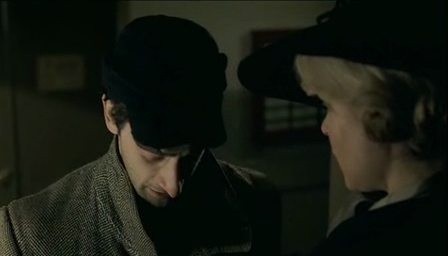cu: (1, 1, 448, 256)
face: (123, 124, 206, 206), (316, 96, 364, 191)
person: (1, 12, 284, 256), (236, 1, 448, 256)
